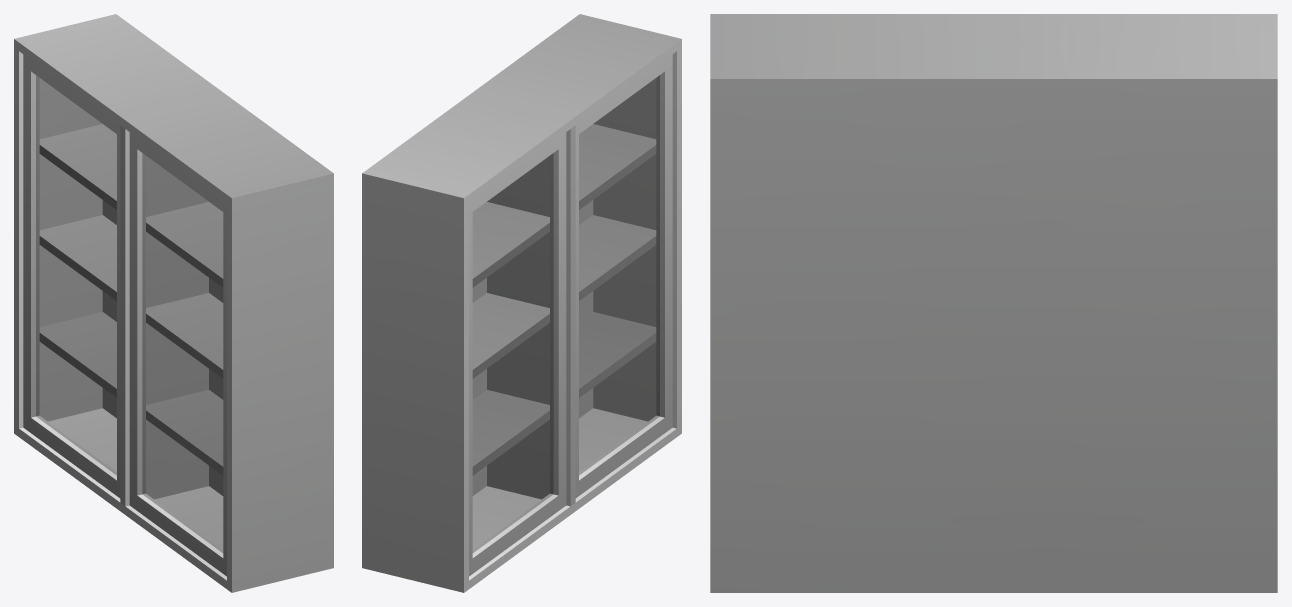
The model's file is LargeCabinet.fbx.
3 renders of one model, left to right at view 1: azimuth 30°, elevation 25°; view 2: azimuth 150°, elevation 25°; view 3: azimuth 270°, elevation 25°, orthographic. The views are drawn at different scales.
Parts seen in each view (by area): view 1: LargeCabinet; view 2: LargeCabinet; view 3: LargeCabinet.
Boxes of the visible parts, left/top/right/bottom form: LargeCabinet: left=14, top=14, right=333, bottom=592; LargeCabinet: left=362, top=14, right=681, bottom=592; LargeCabinet: left=710, top=14, right=1277, bottom=592.
Bounding box in the file's own units: 99.56 × 368 × 368.
2 materials, 1 textured.
